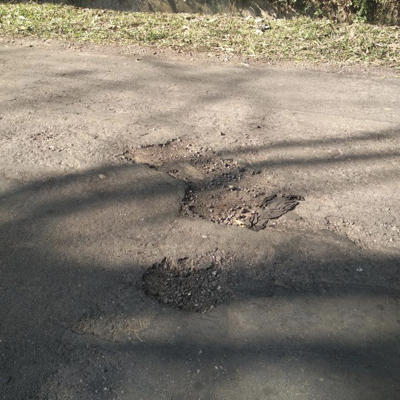pothole: (122, 132, 290, 229), (139, 254, 237, 315)
